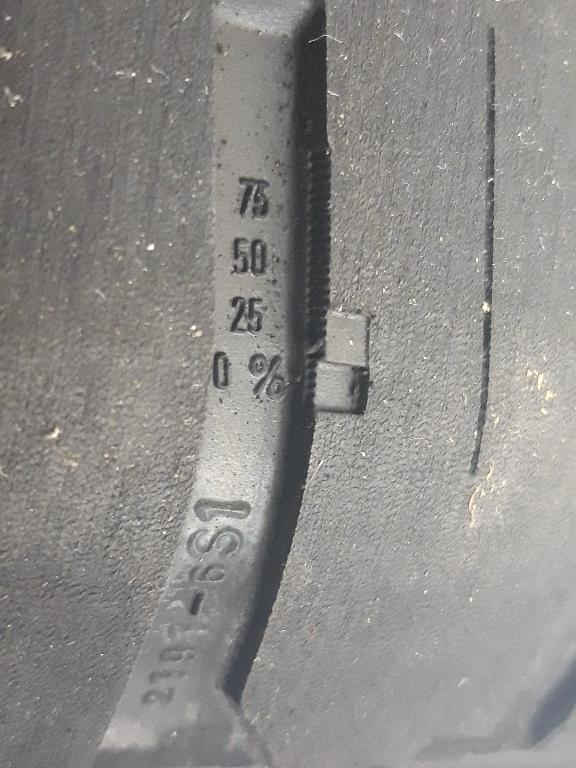temoin:25: (287, 286, 384, 434)
